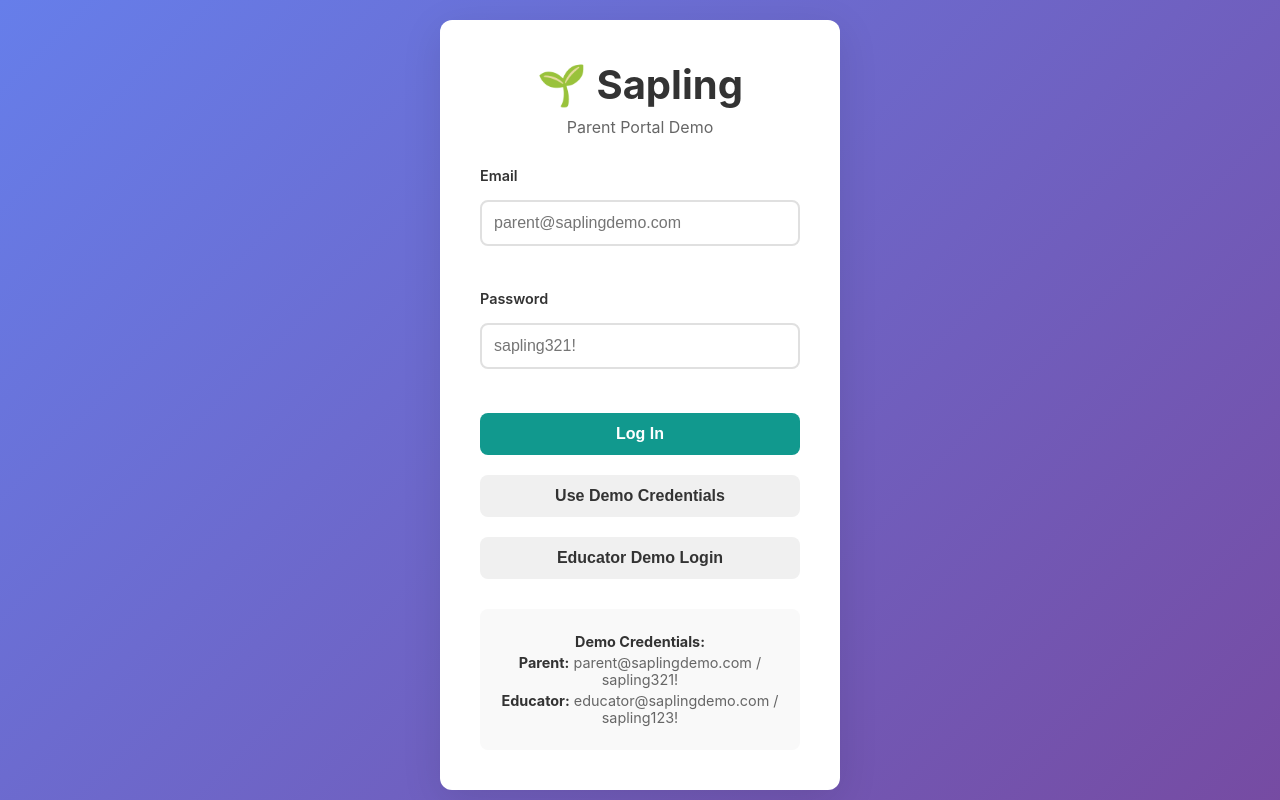
Test: LoginForm › fills demo credentials when demo button clicked
Click the button "Use Demo Credentials": point(640, 496) [480,475,800,517]
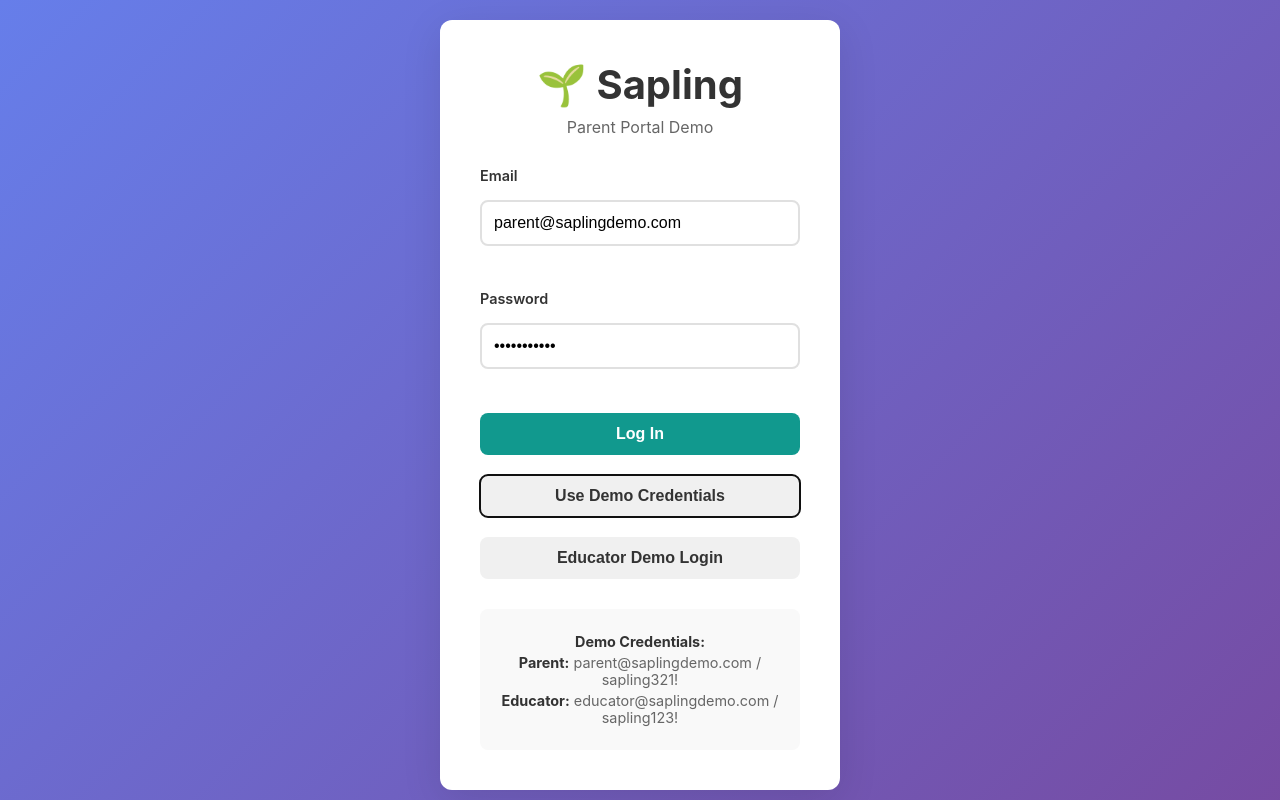
Result: the field labelled "Email" holds "parent@saplingdemo.com" at [480,200,800,246]
Result: the password field labelled "Password" holds "sapling321!" at [480,323,800,369]
